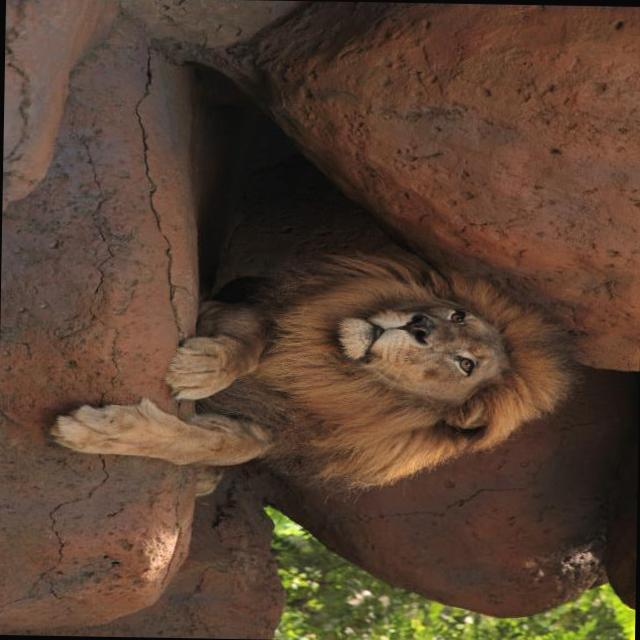lions: (0, 157, 620, 560)
